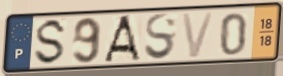0: (218, 11, 250, 57)
9: (72, 16, 103, 65)
A: (102, 14, 143, 63)
S: (31, 17, 69, 67), (143, 12, 179, 63)
V: (180, 10, 217, 60)
